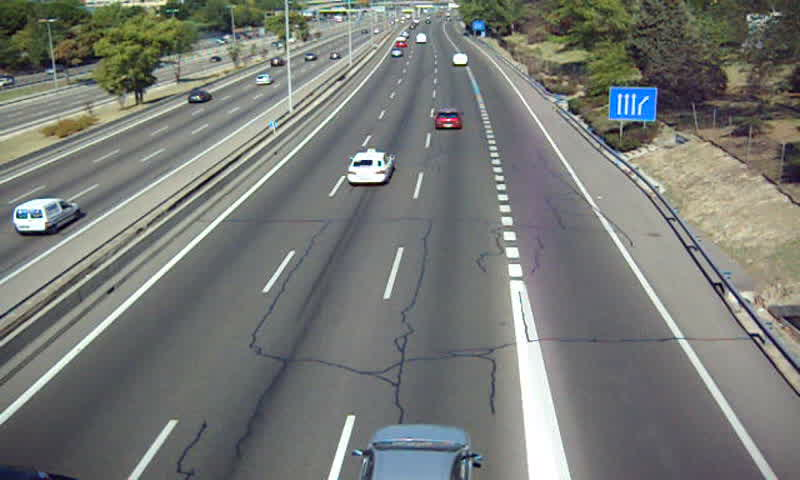car: (348, 150, 394, 183), (434, 109, 462, 131)
van: (452, 53, 469, 66)
